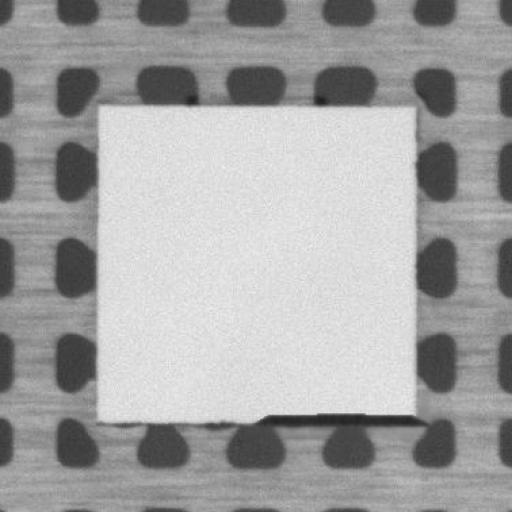DIE_BROKEN: (246, 410, 420, 426)
